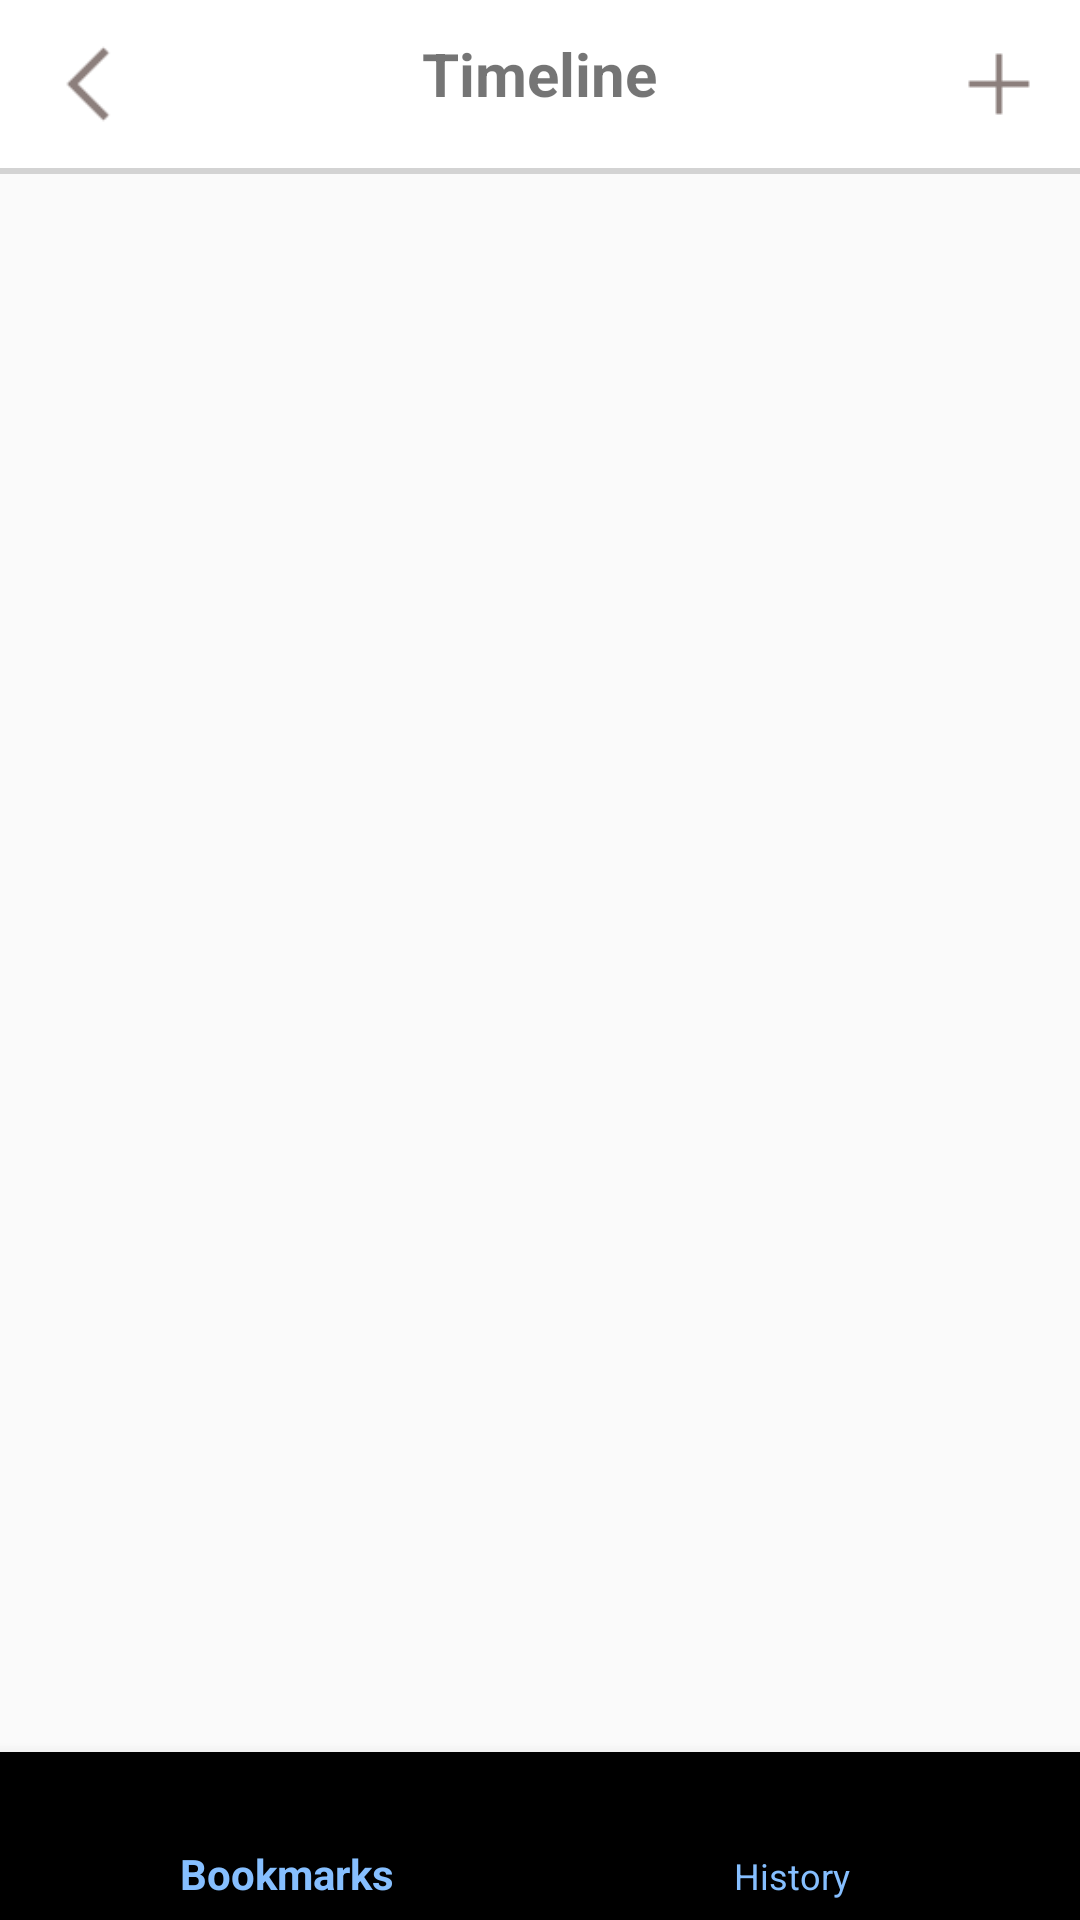

Named icons in this screenshot (1080 x 1920) and their bounding boxes, [x1=x1, y1=y1, x2=x2, y2=y2]:
add: [x1=968, y1=53, x2=1030, y2=115]
back: [x1=67, y1=47, x2=109, y2=121]
